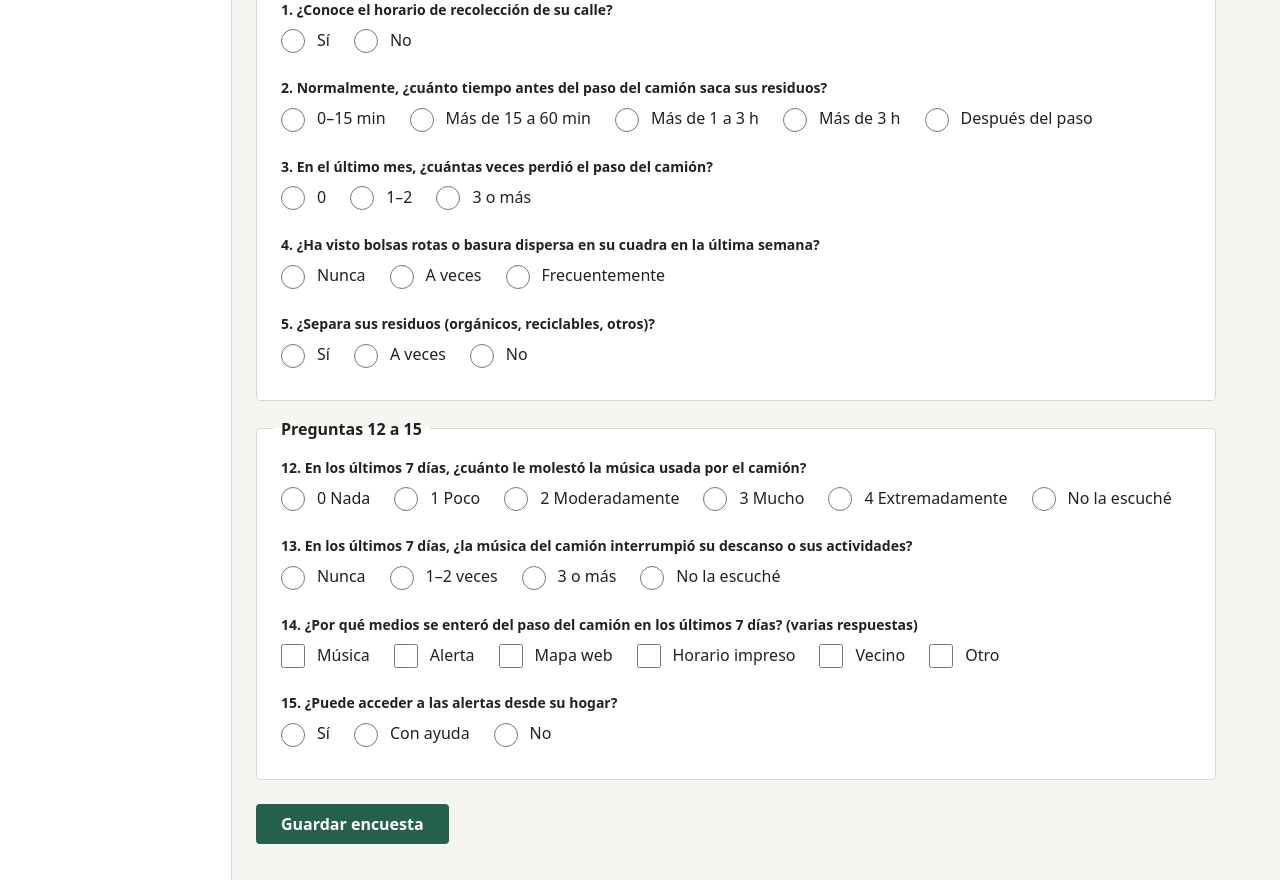
it: SurveyEditorPage › asks for the household and the wave, and explains a second survey of a wave
The width and height of the screenshot is (1280, 880).
(page scrolled)
Click the button "Guardar encuesta".
click(352, 824)  # box [256,804,449,844]
(page scrolled)
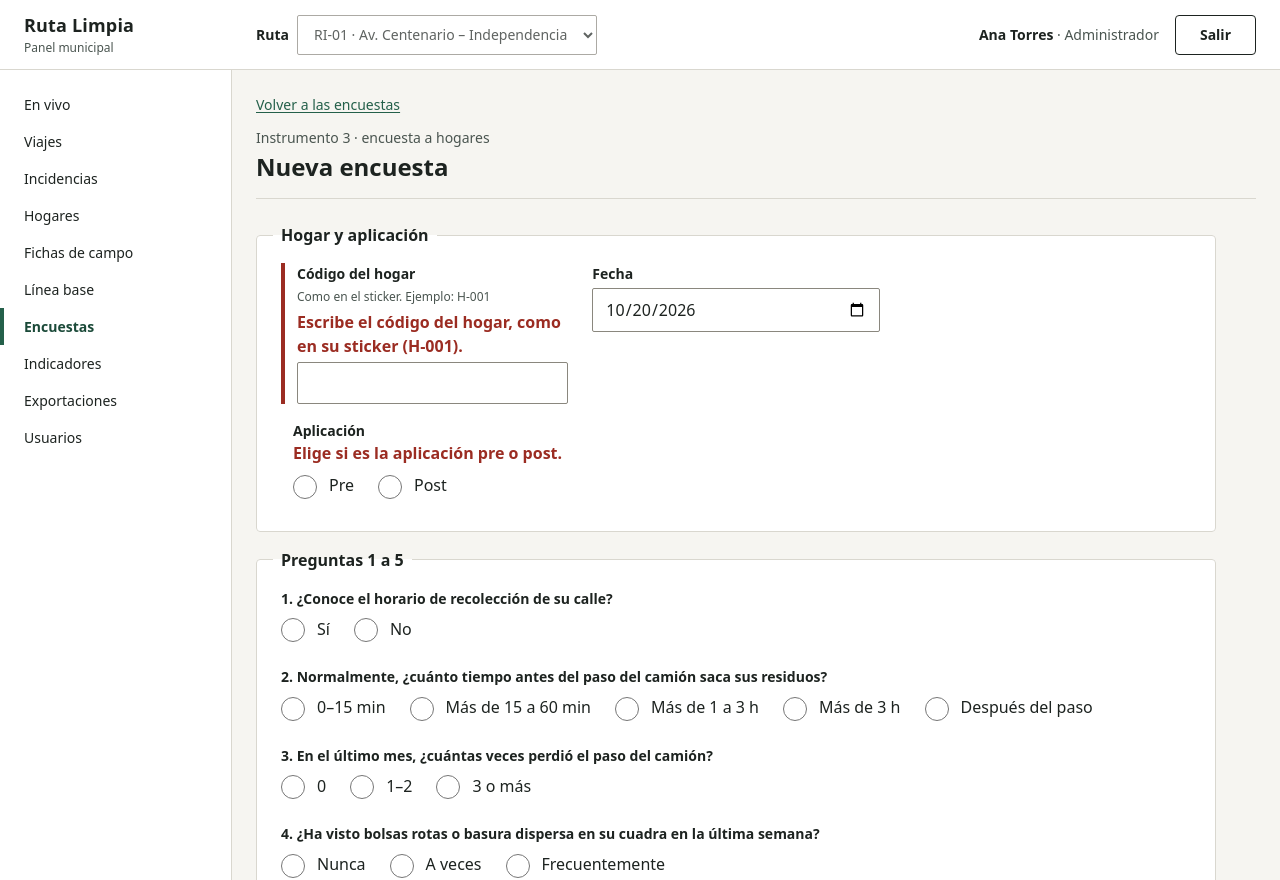
expect the text "Elige si es la aplicación pre o post." is shown: met, box [293,442,562,464]
Type "H-001" into the field labelled "Código del hogar".
click(433, 383); type("H-001")  # box [297,362,568,404]
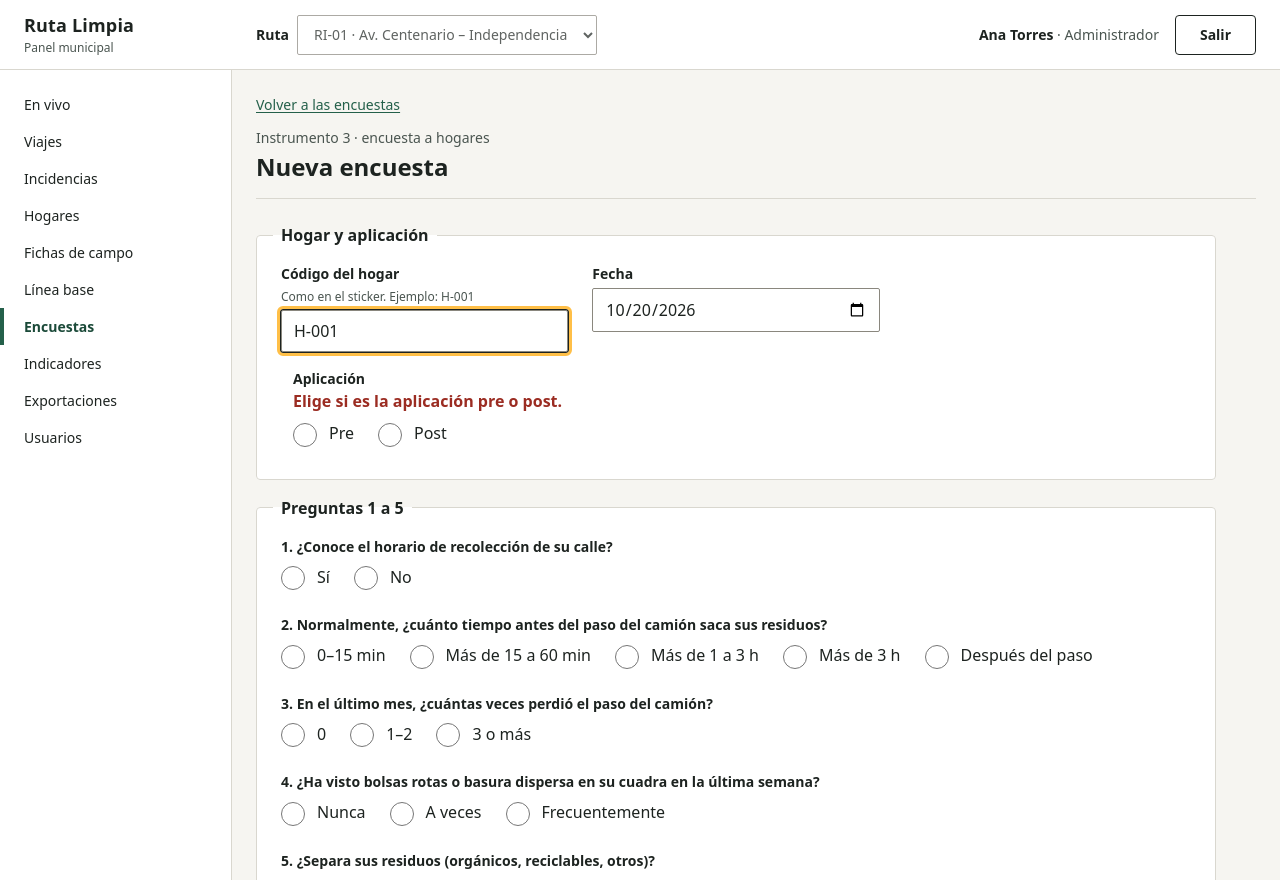
Click the radio button labelled "Pre".
click(305, 435)  # box [293,423,317,447]
(page scrolled)
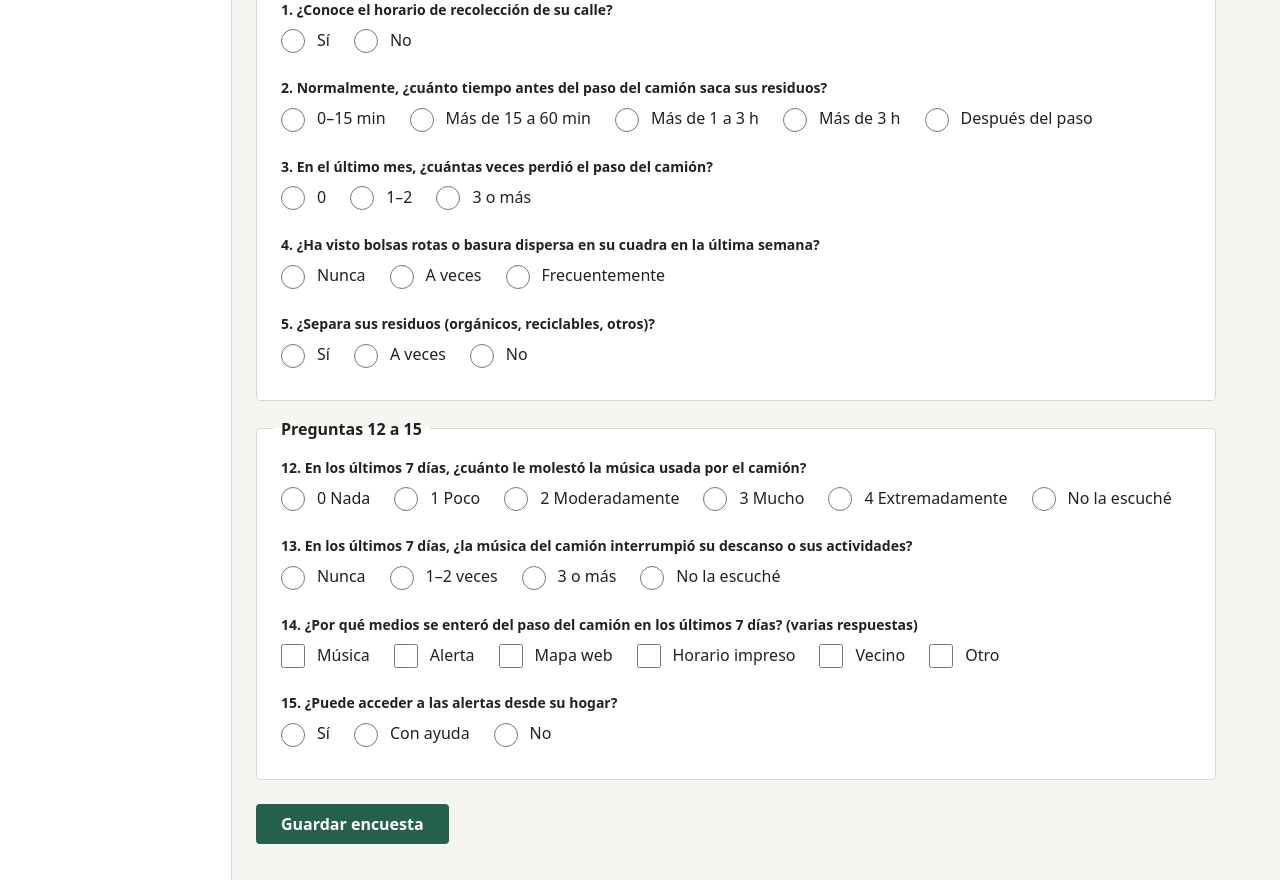
Click the button "Guardar encuesta".
click(352, 824)  # box [256,804,449,844]
(page scrolled)
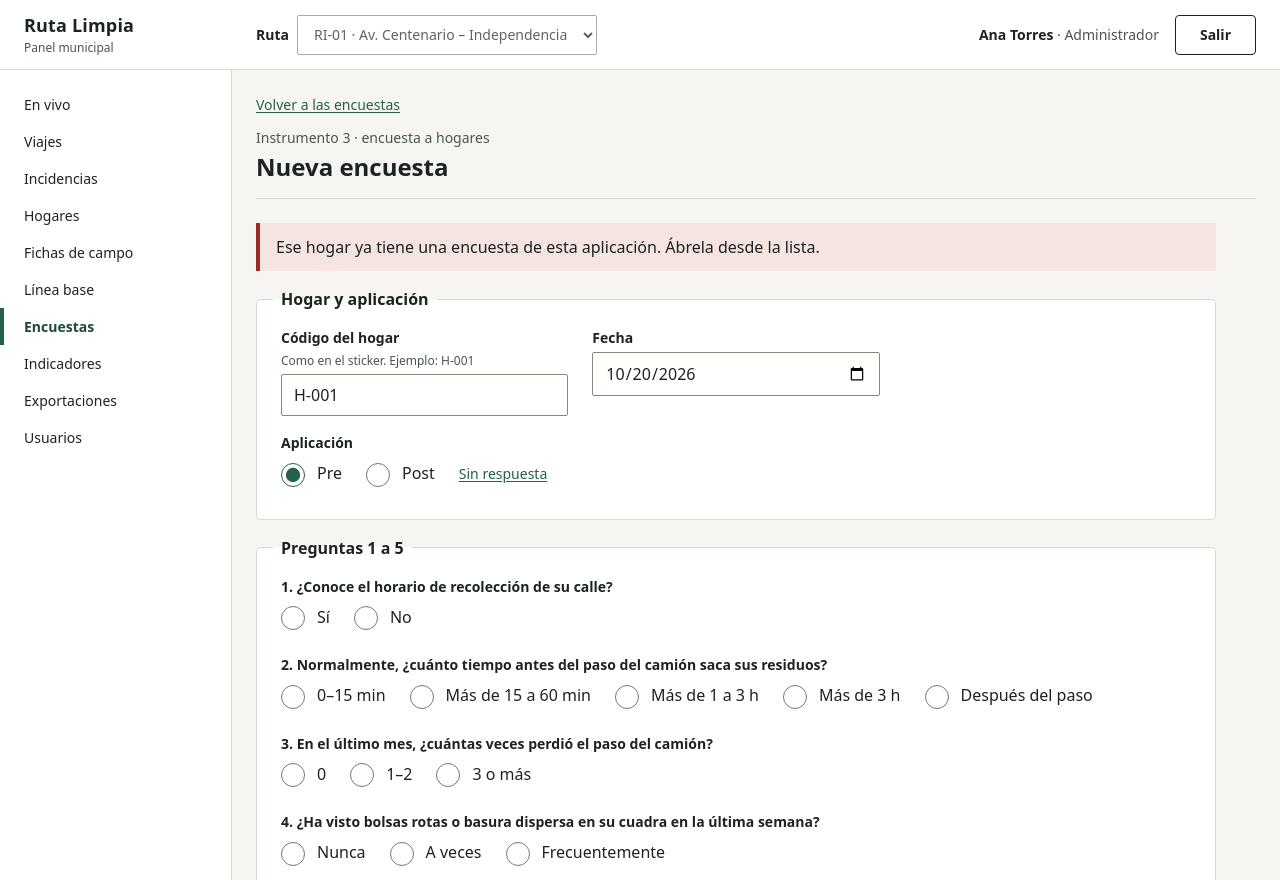
expect the text "Ese hogar ya tiene una encuesta de esta aplicación" is shown: met, box [276,236,820,258]
